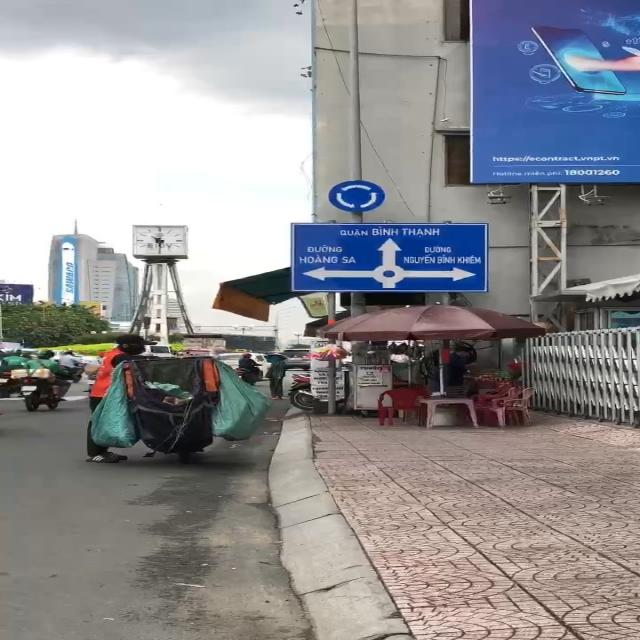Bien bao noi giao nhau chay theo vong xuyen: (324, 178, 390, 214)
